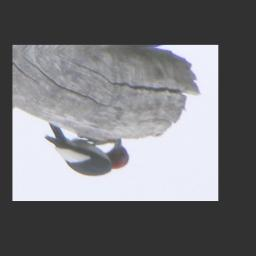Woodpecker: (40, 118, 134, 180)
